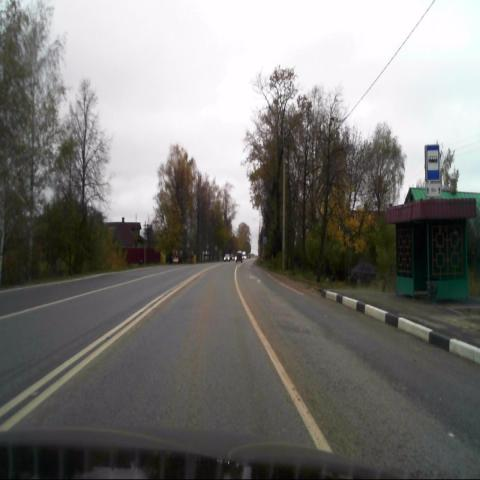8_2_1: (426, 184, 442, 198)
